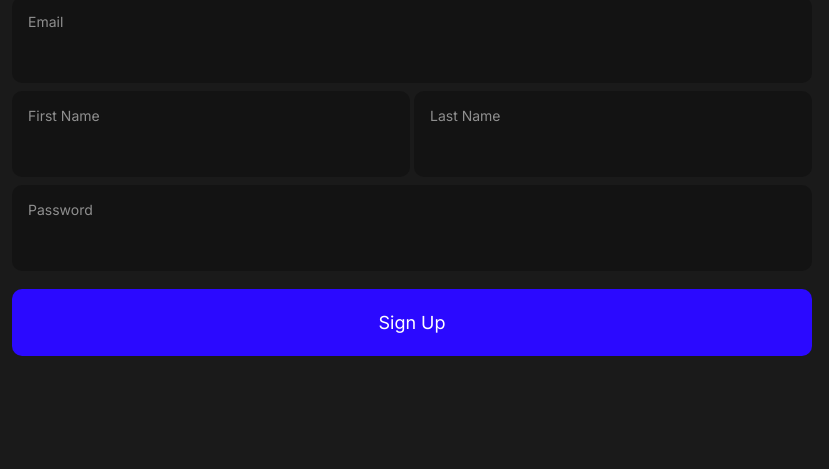
it: RegisterForm Component › shows validation errors on empty submit
What coordinates should you click on to do the following:
click the button "Sign Up"
I would click on:
 (412, 322)
Its box is left=12, top=289, right=812, bottom=356.
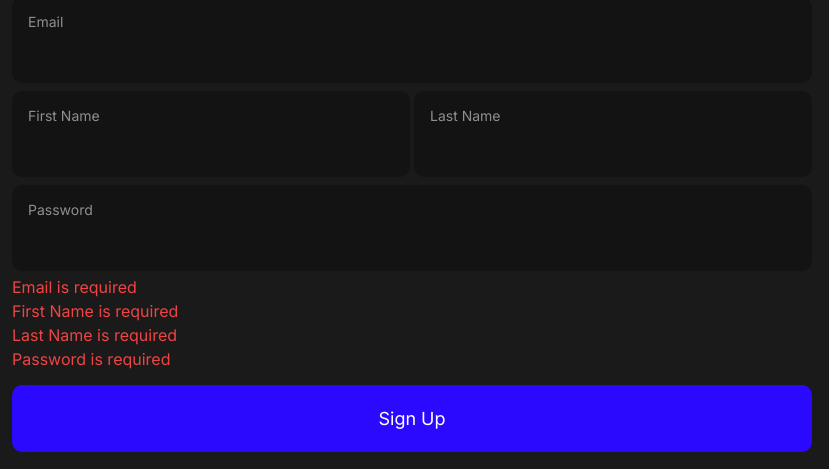
Result: the text "Email is required" is shown at left=12, top=277, right=137, bottom=297
Result: the text "First Name is required" is shown at left=12, top=301, right=178, bottom=321
Result: the text "Last Name is required" is shown at left=12, top=325, right=177, bottom=345
